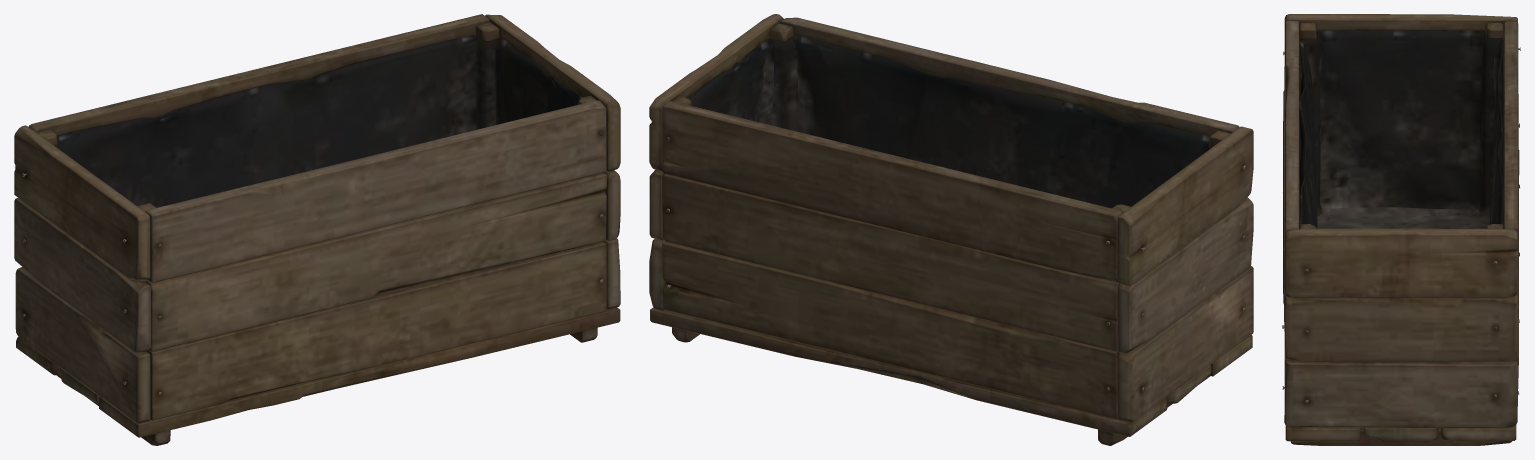
3 renders of one model, left to right at view 1: azimuth 30°, elevation 25°; view 2: azimuth 150°, elevation 25°; view 3: azimuth 270°, elevation 25°, orthographic. The views are drawn at different scales.
Parts seen in each view (by area): view 1: planter_box_01; view 2: planter_box_01; view 3: planter_box_01.
Boxes of the visible parts, <box> form: planter_box_01: <box>14,14,620,445</box>; planter_box_01: <box>649,14,1253,445</box>; planter_box_01: <box>1282,14,1520,445</box>.
Size of the model in its own units: 0.9126 by 0.4249 by 0.4137.
1 material, 1 textured.
